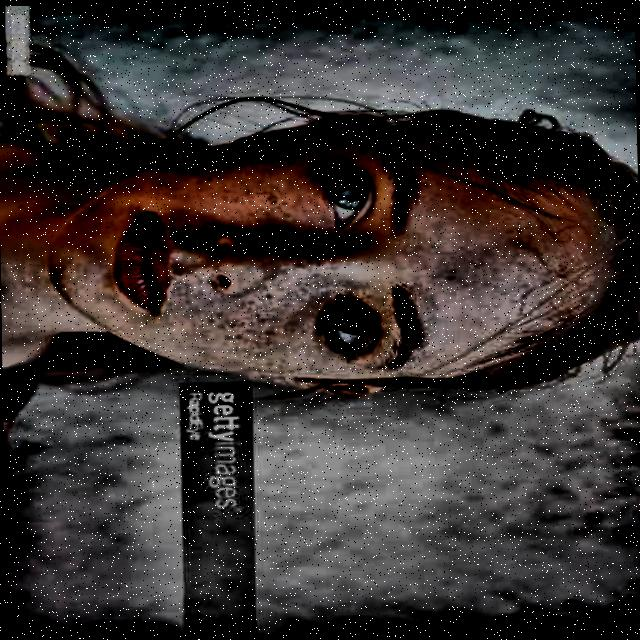neutral: (28, 102, 637, 413)
